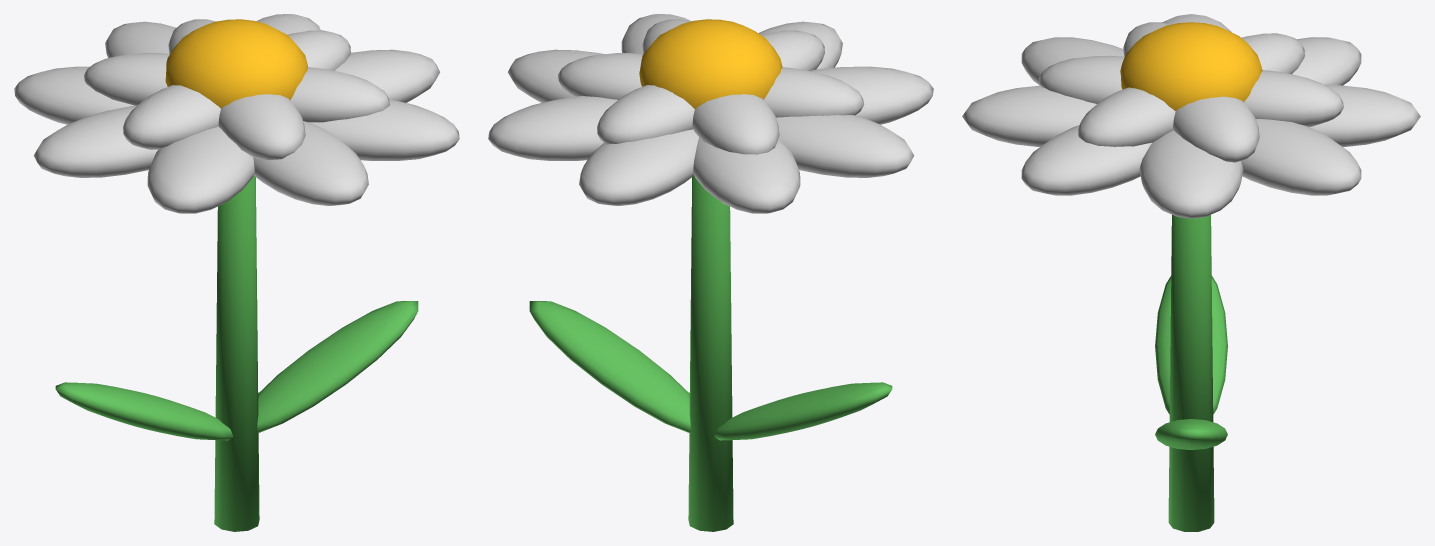
Rendered from flower_white.glb.
3 renders of one model, left to right at view 1: azimuth 30°, elevation 25°; view 2: azimuth 150°, elevation 25°; view 3: azimuth 270°, elevation 25°, orthographic.
Parts seen in each view (by area): view 1: flower_white; view 2: flower_white; view 3: flower_white.
Boxes of the visible parts, bbox=[...] form: flower_white: bbox=[14, 14, 459, 531]; flower_white: bbox=[488, 14, 933, 531]; flower_white: bbox=[962, 14, 1420, 531].
Size of the model in its own units: 0.44 by 0.52 by 0.44.
